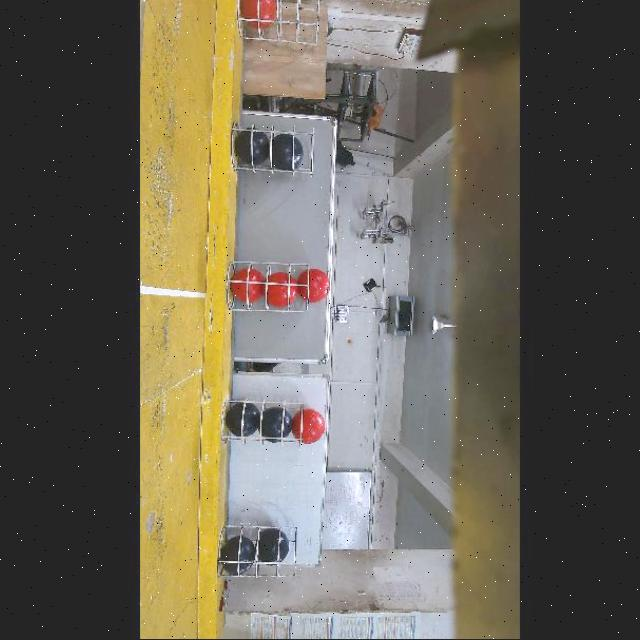P: (219, 537, 256, 576), (235, 125, 269, 166), (225, 403, 260, 437), (261, 407, 293, 443), (272, 134, 303, 171), (257, 529, 289, 563)
R: (291, 408, 324, 444), (266, 272, 298, 308), (231, 269, 264, 303), (298, 269, 330, 303), (241, 0, 276, 30)
S: (225, 116, 319, 182), (220, 396, 304, 452), (216, 523, 302, 577), (218, 256, 304, 310), (240, 0, 326, 48)
